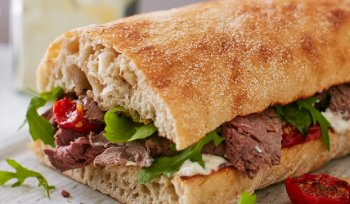soup: (26, 2, 350, 203)
